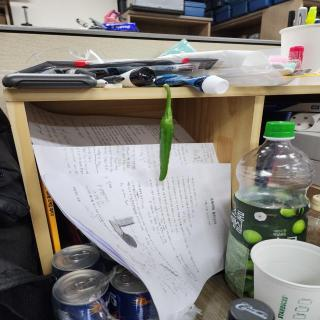Cabai Hijau: (153, 83, 181, 189)
